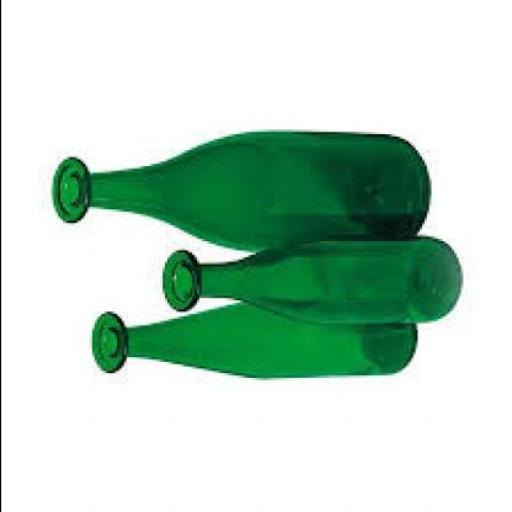glass: (47, 137, 428, 252), (89, 303, 414, 383), (160, 240, 462, 326)
